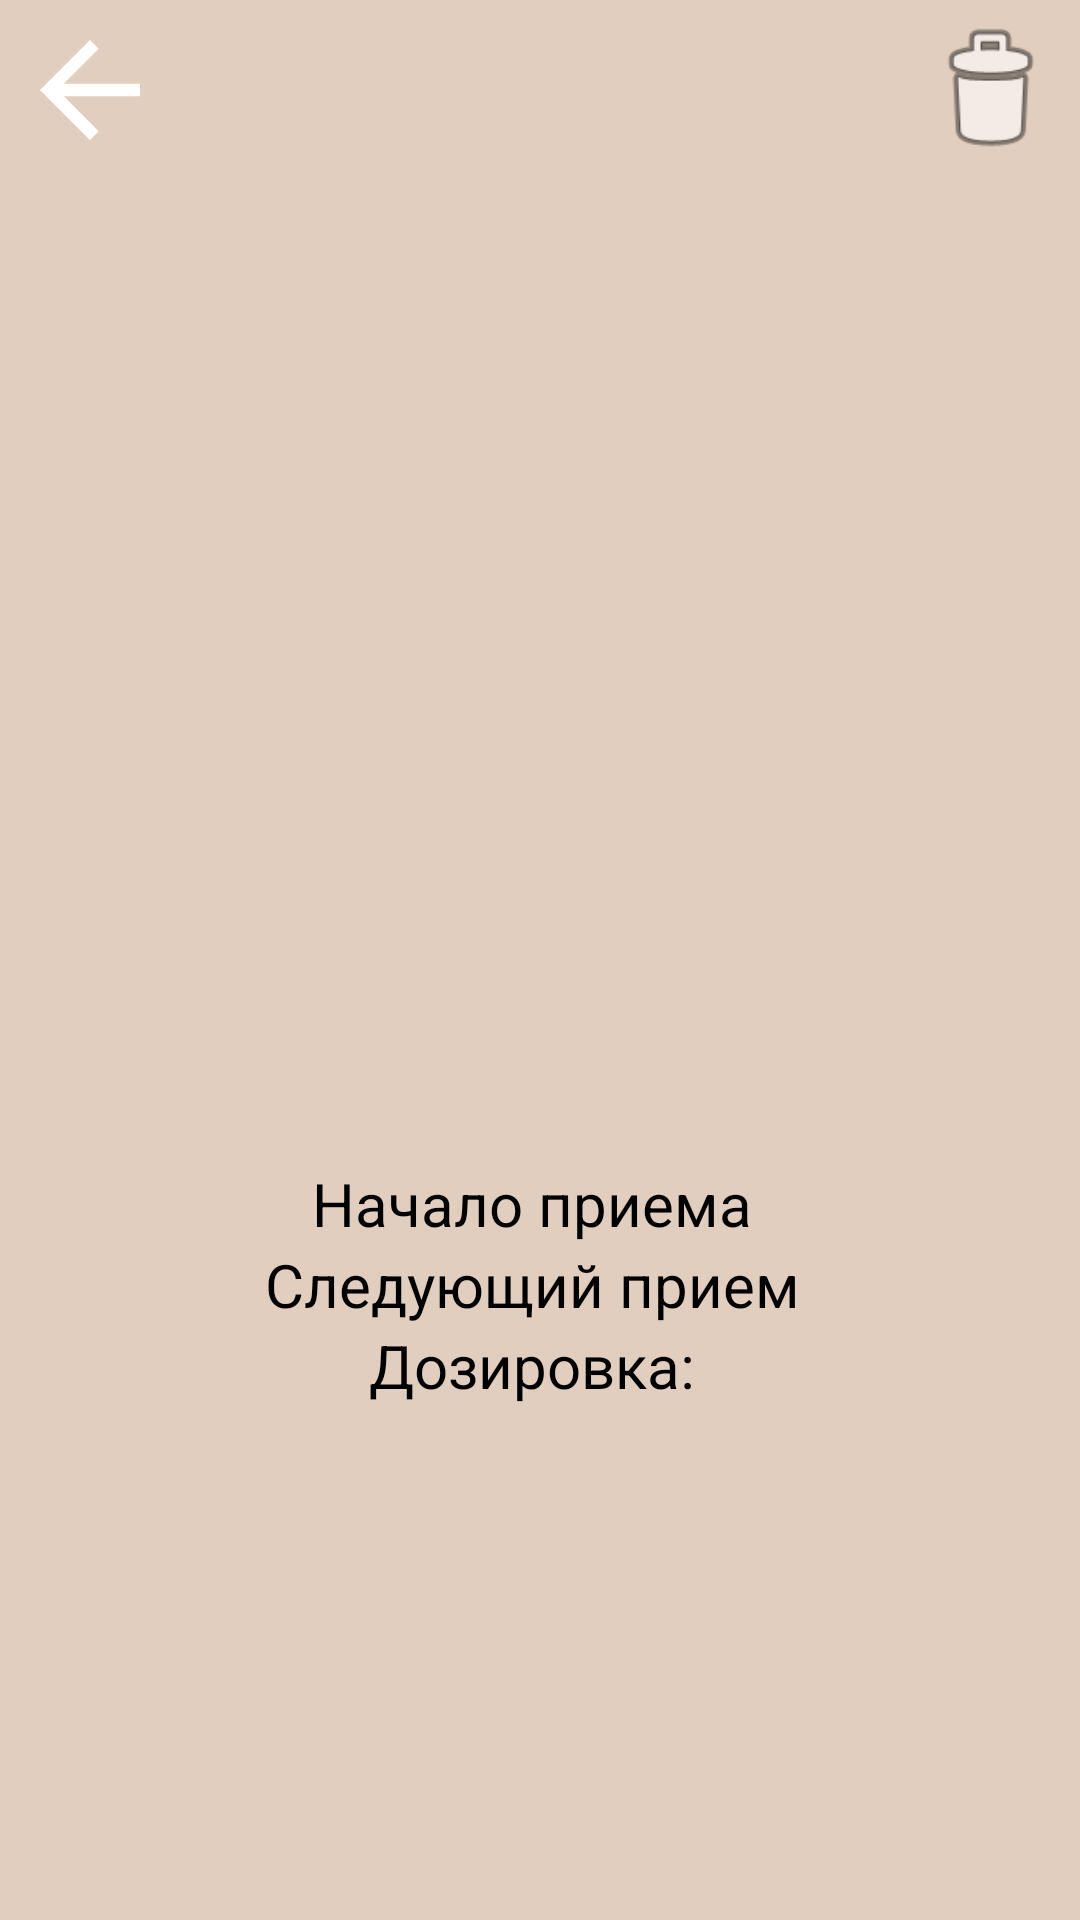

Icons on this 1080*1920 Android screen, each with its box as (x1, y1, x2, y2):
delete: (948, 29, 1033, 146)
